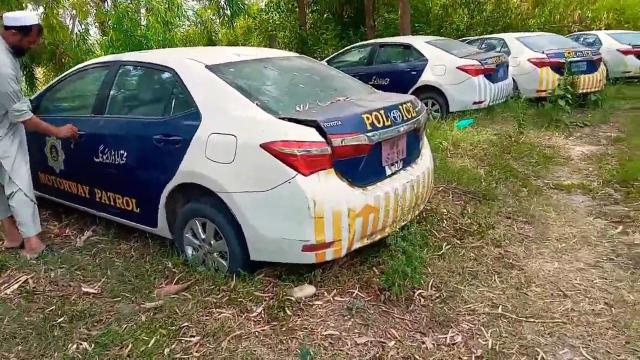police: (21, 48, 434, 264), (306, 34, 515, 115), (466, 30, 614, 101)
